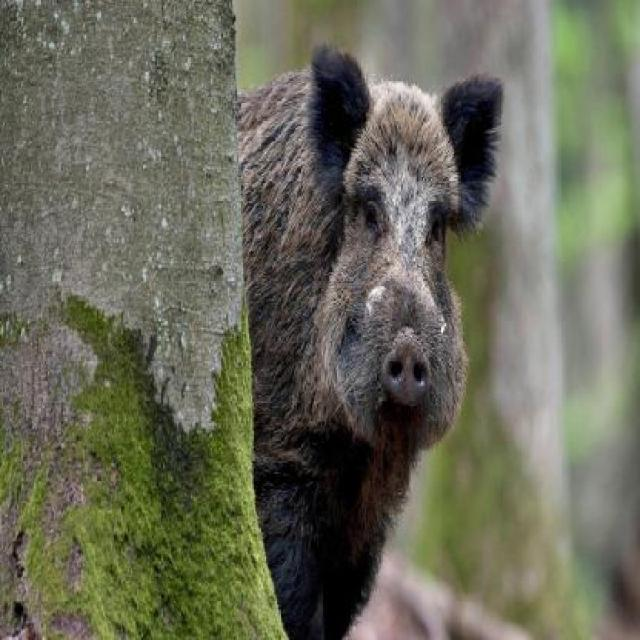wildboar: (94, 37, 517, 640)
